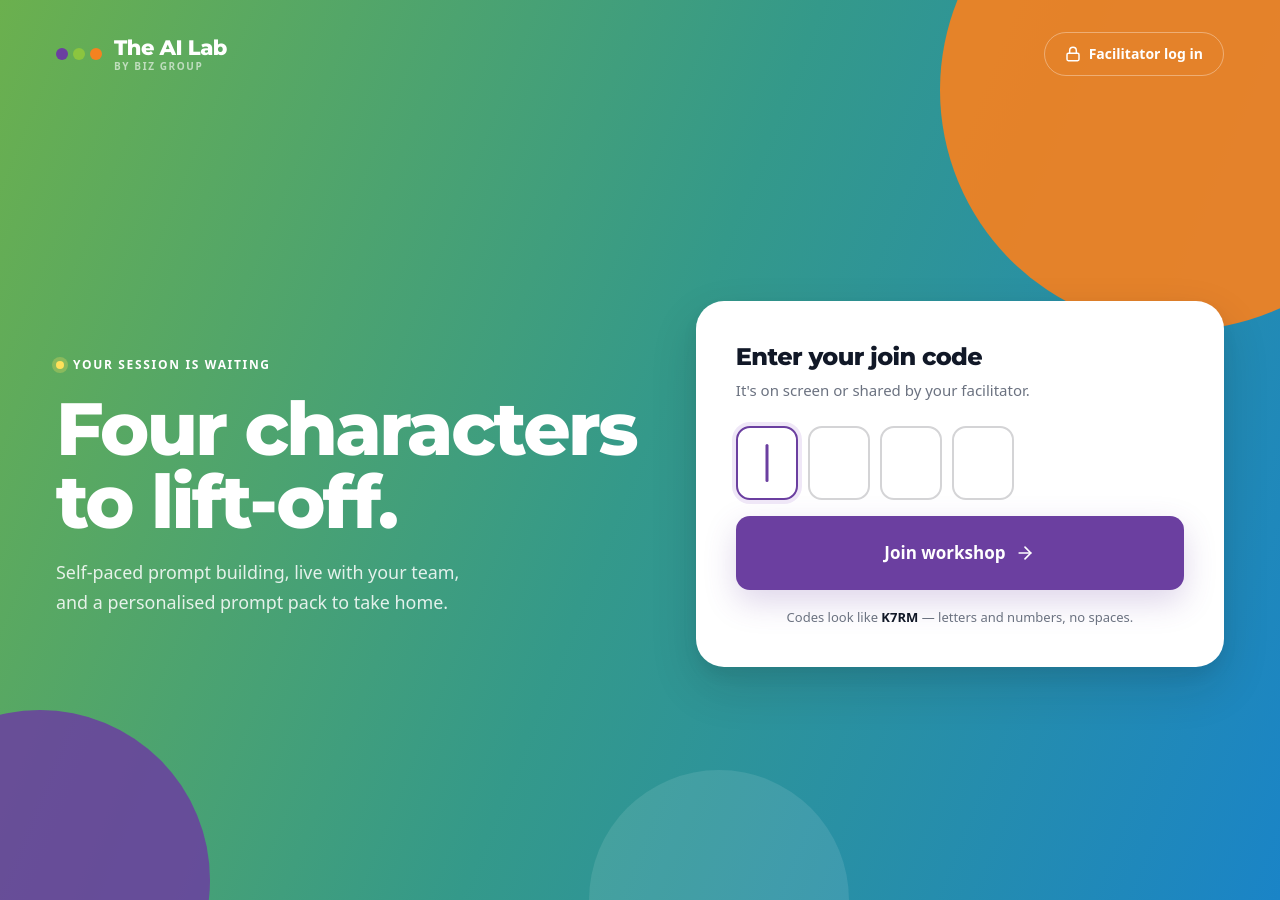
Test case: HomePage › form submission › clears error state when user types after an error
Step 1. Type "K" into the field named "Join code character 1" → (767, 462), box [736, 426, 798, 500]
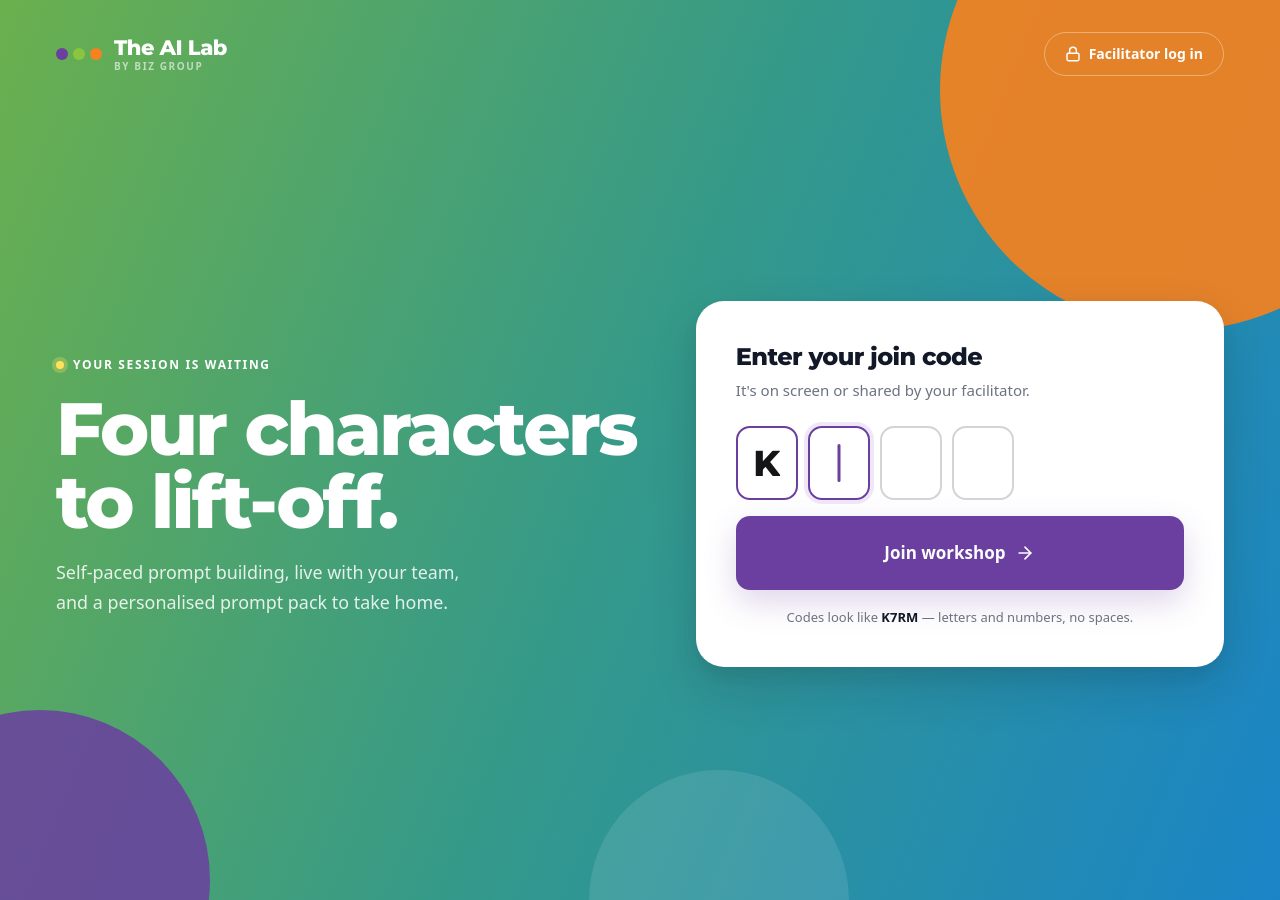
Step 2. Type "7" into the field named "Join code character 2" → (839, 462), box [808, 426, 870, 500]
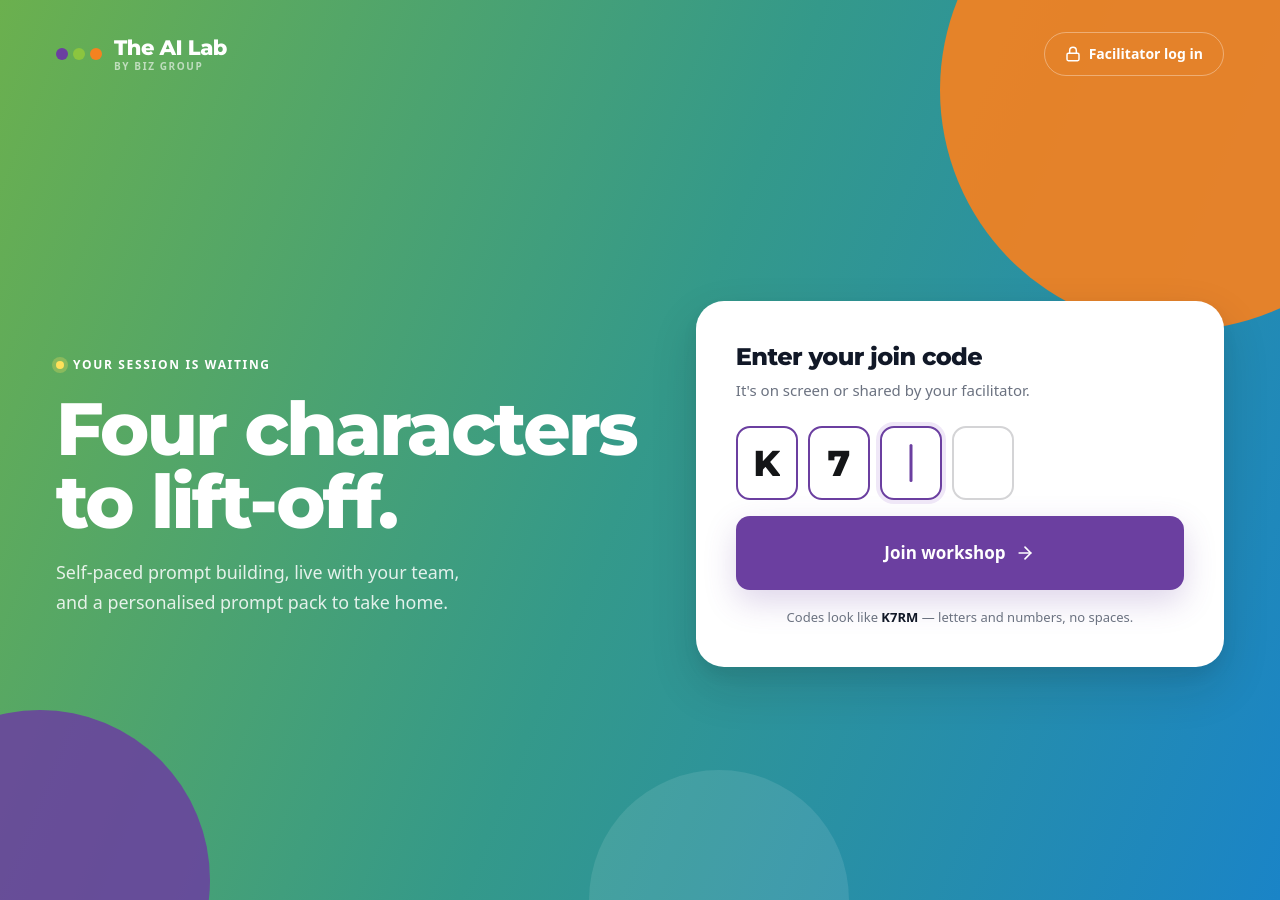
Step 3. Type "R" into the field named "Join code character 3" → (911, 462), box [880, 426, 942, 500]
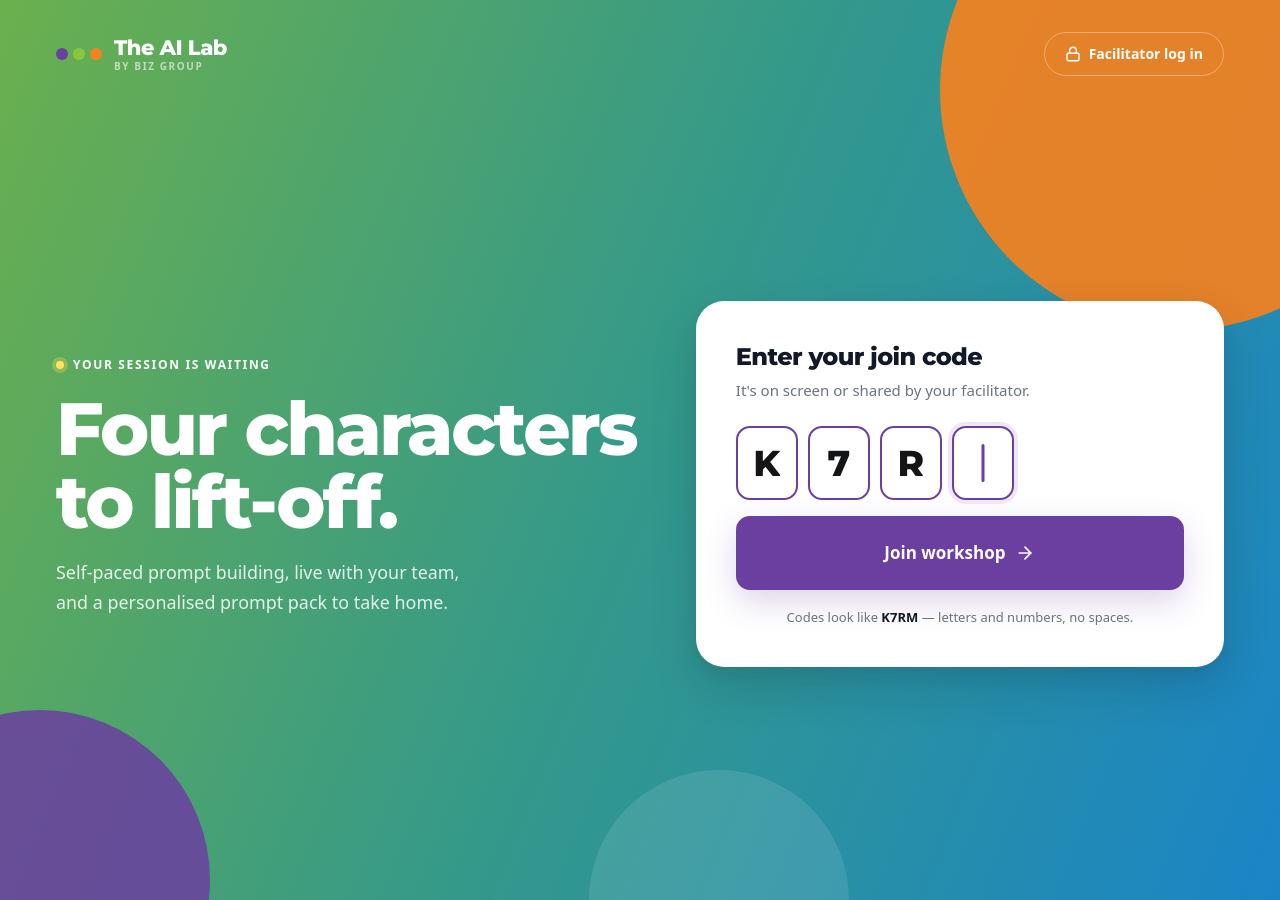
Step 4. Type "M" into the field named "Join code character 4" → (983, 462), box [952, 426, 1014, 500]
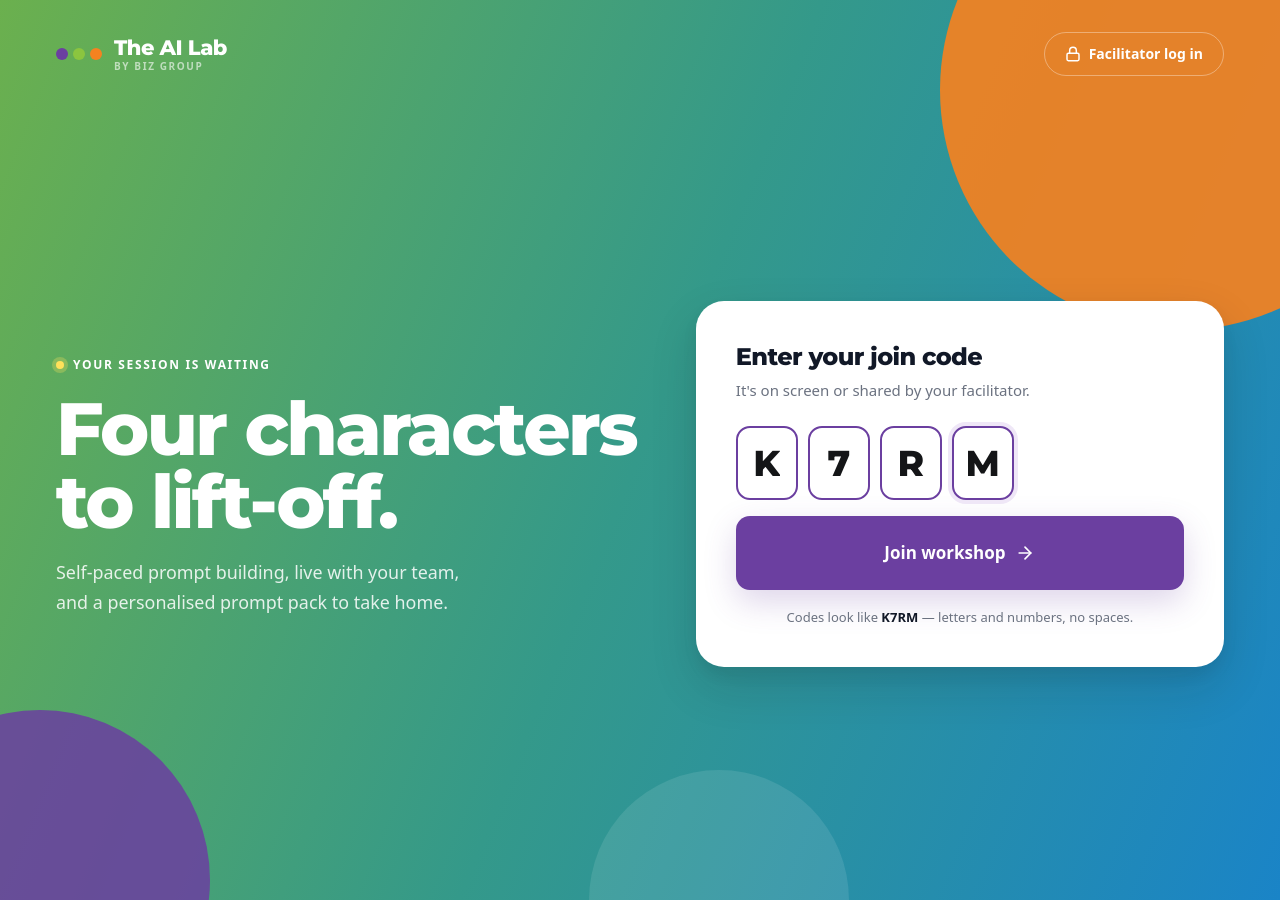
Step 5. Submit the form "Join workshop", box [736, 426, 1184, 590]
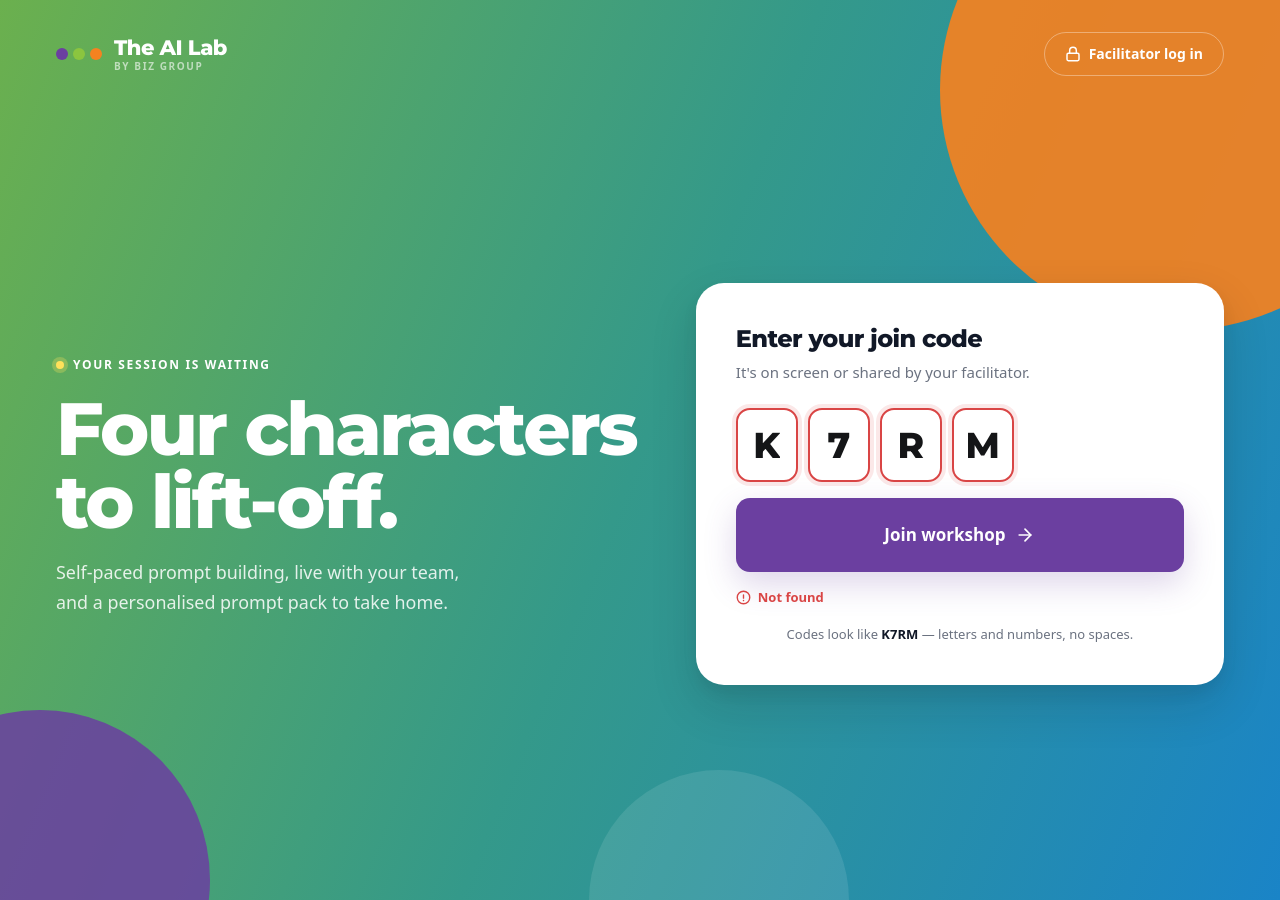
Check: the message "Not found" is shown, box [736, 588, 824, 606]
Note: Type in first input to clear error
Step 6. Replace the text in the field named "Join code character 1" with "A" → (767, 445), box [736, 408, 798, 482]
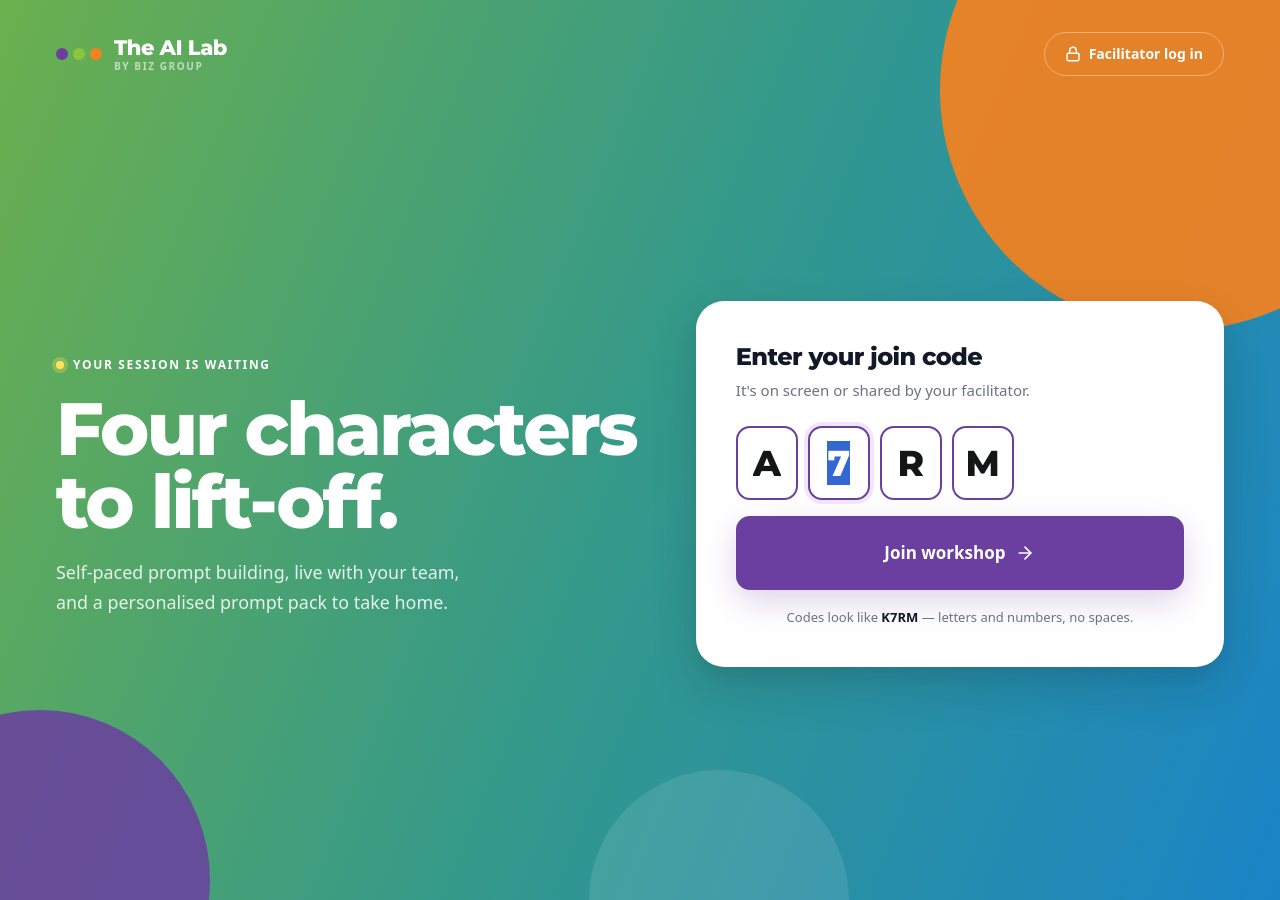
Check: the message "Not found" is gone
